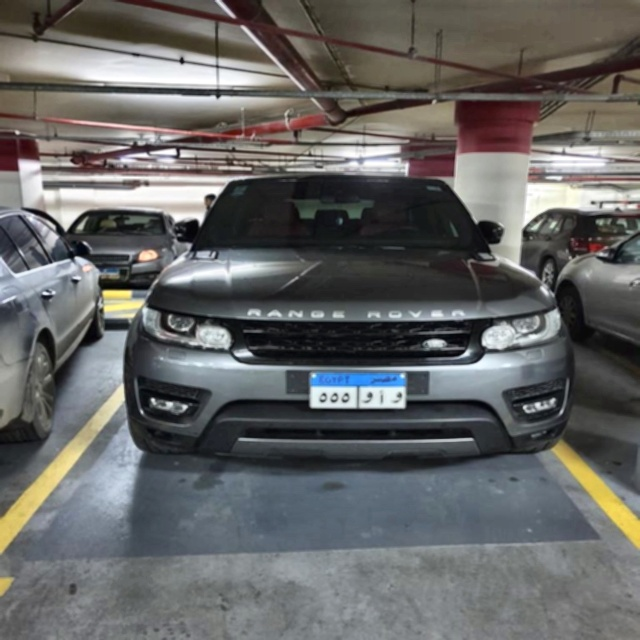License Plate: (306, 369, 408, 410)
